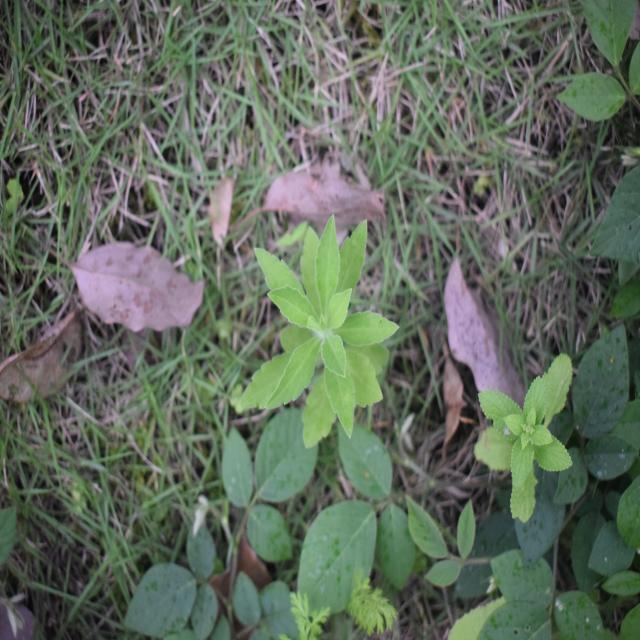horseweed: (246, 218, 408, 462)
